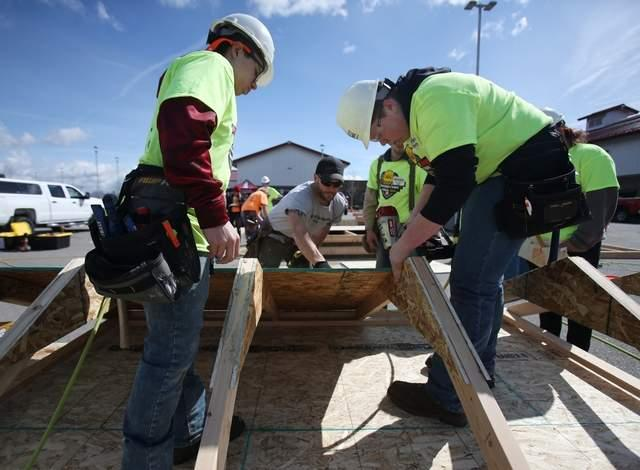helmet: (210, 11, 279, 91), (336, 77, 385, 151), (261, 177, 270, 185)
